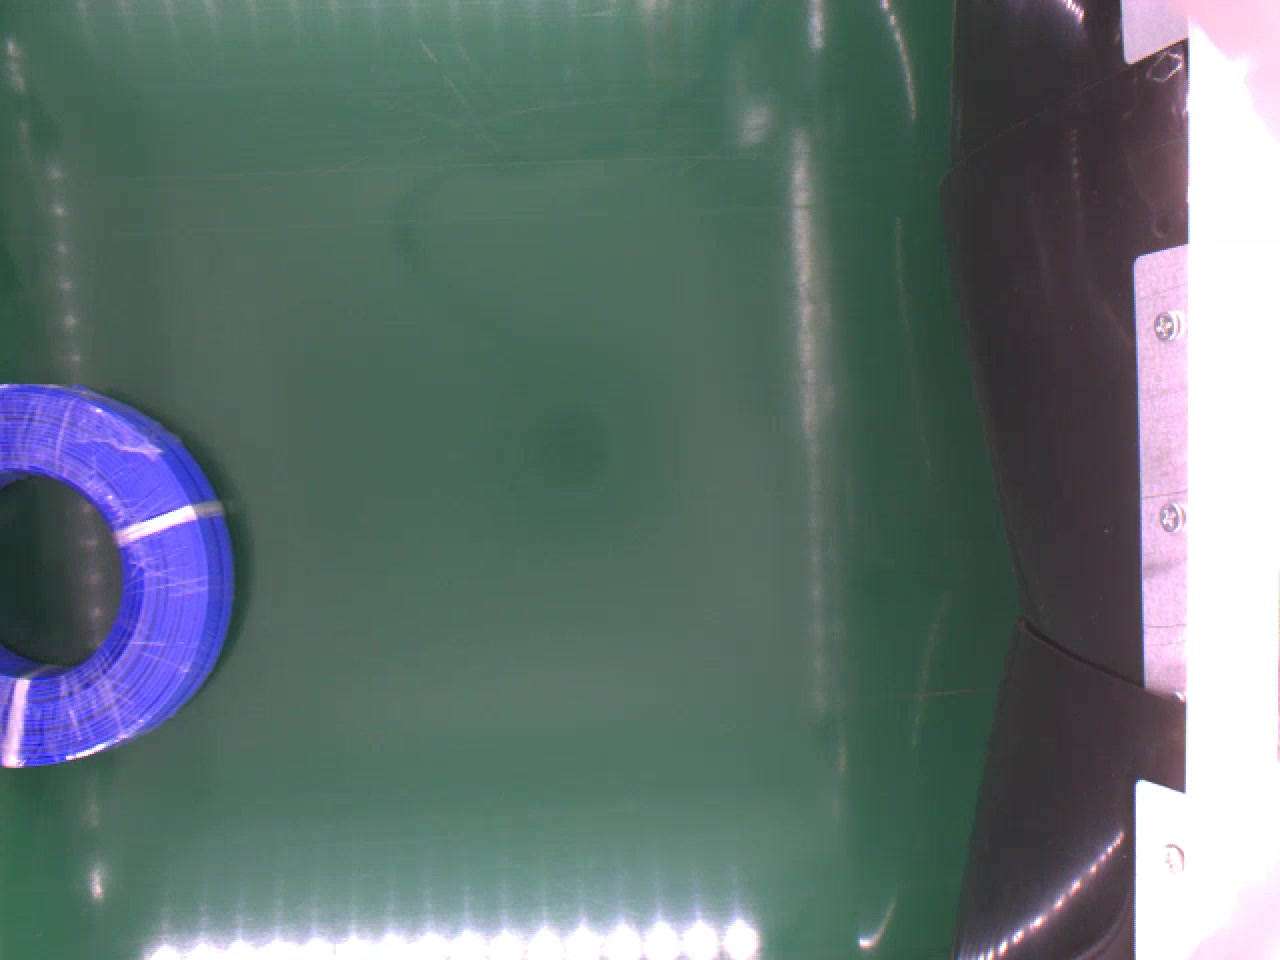blue: (0, 382, 240, 768)
